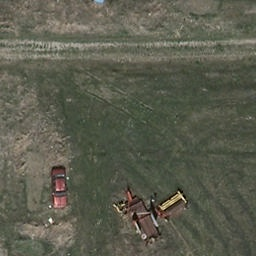car: (51, 166, 66, 210)
